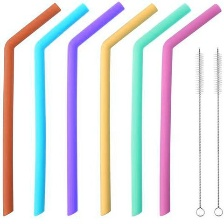drinking_straw: (154, 0, 224, 219), (124, 1, 193, 218), (29, 0, 94, 220), (95, 0, 159, 218), (0, 0, 63, 219), (63, 0, 125, 219)
